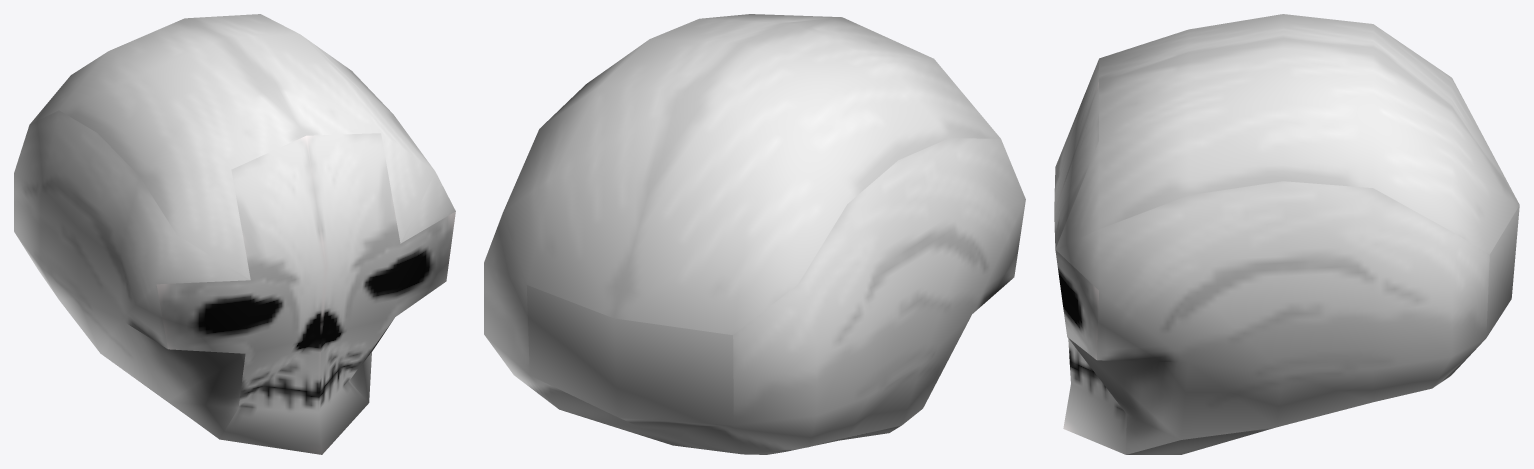
File: Skull.glb
3 views of the same model, side by side, from view 1: azimuth 30°, elevation 25°; view 2: azimuth 150°, elevation 25°; view 3: azimuth 270°, elevation 25° (orthographic). The views are drawn at different scales.
Visible parts, largest first — view 1: Skull; view 2: Skull; view 3: Skull.
Part boxes in pixels (x1,y1,x2,y2): Skull: (14,14,455,454); Skull: (484,14,1025,454); Skull: (1054,14,1519,454).
Bounding box in the file's own units: 3.71 × 4.1 × 4.43.
Materials: 1 (1 with a texture image).
